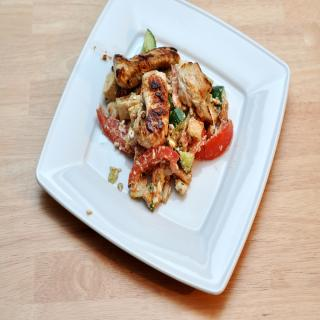tomato: (192, 120, 233, 160)
